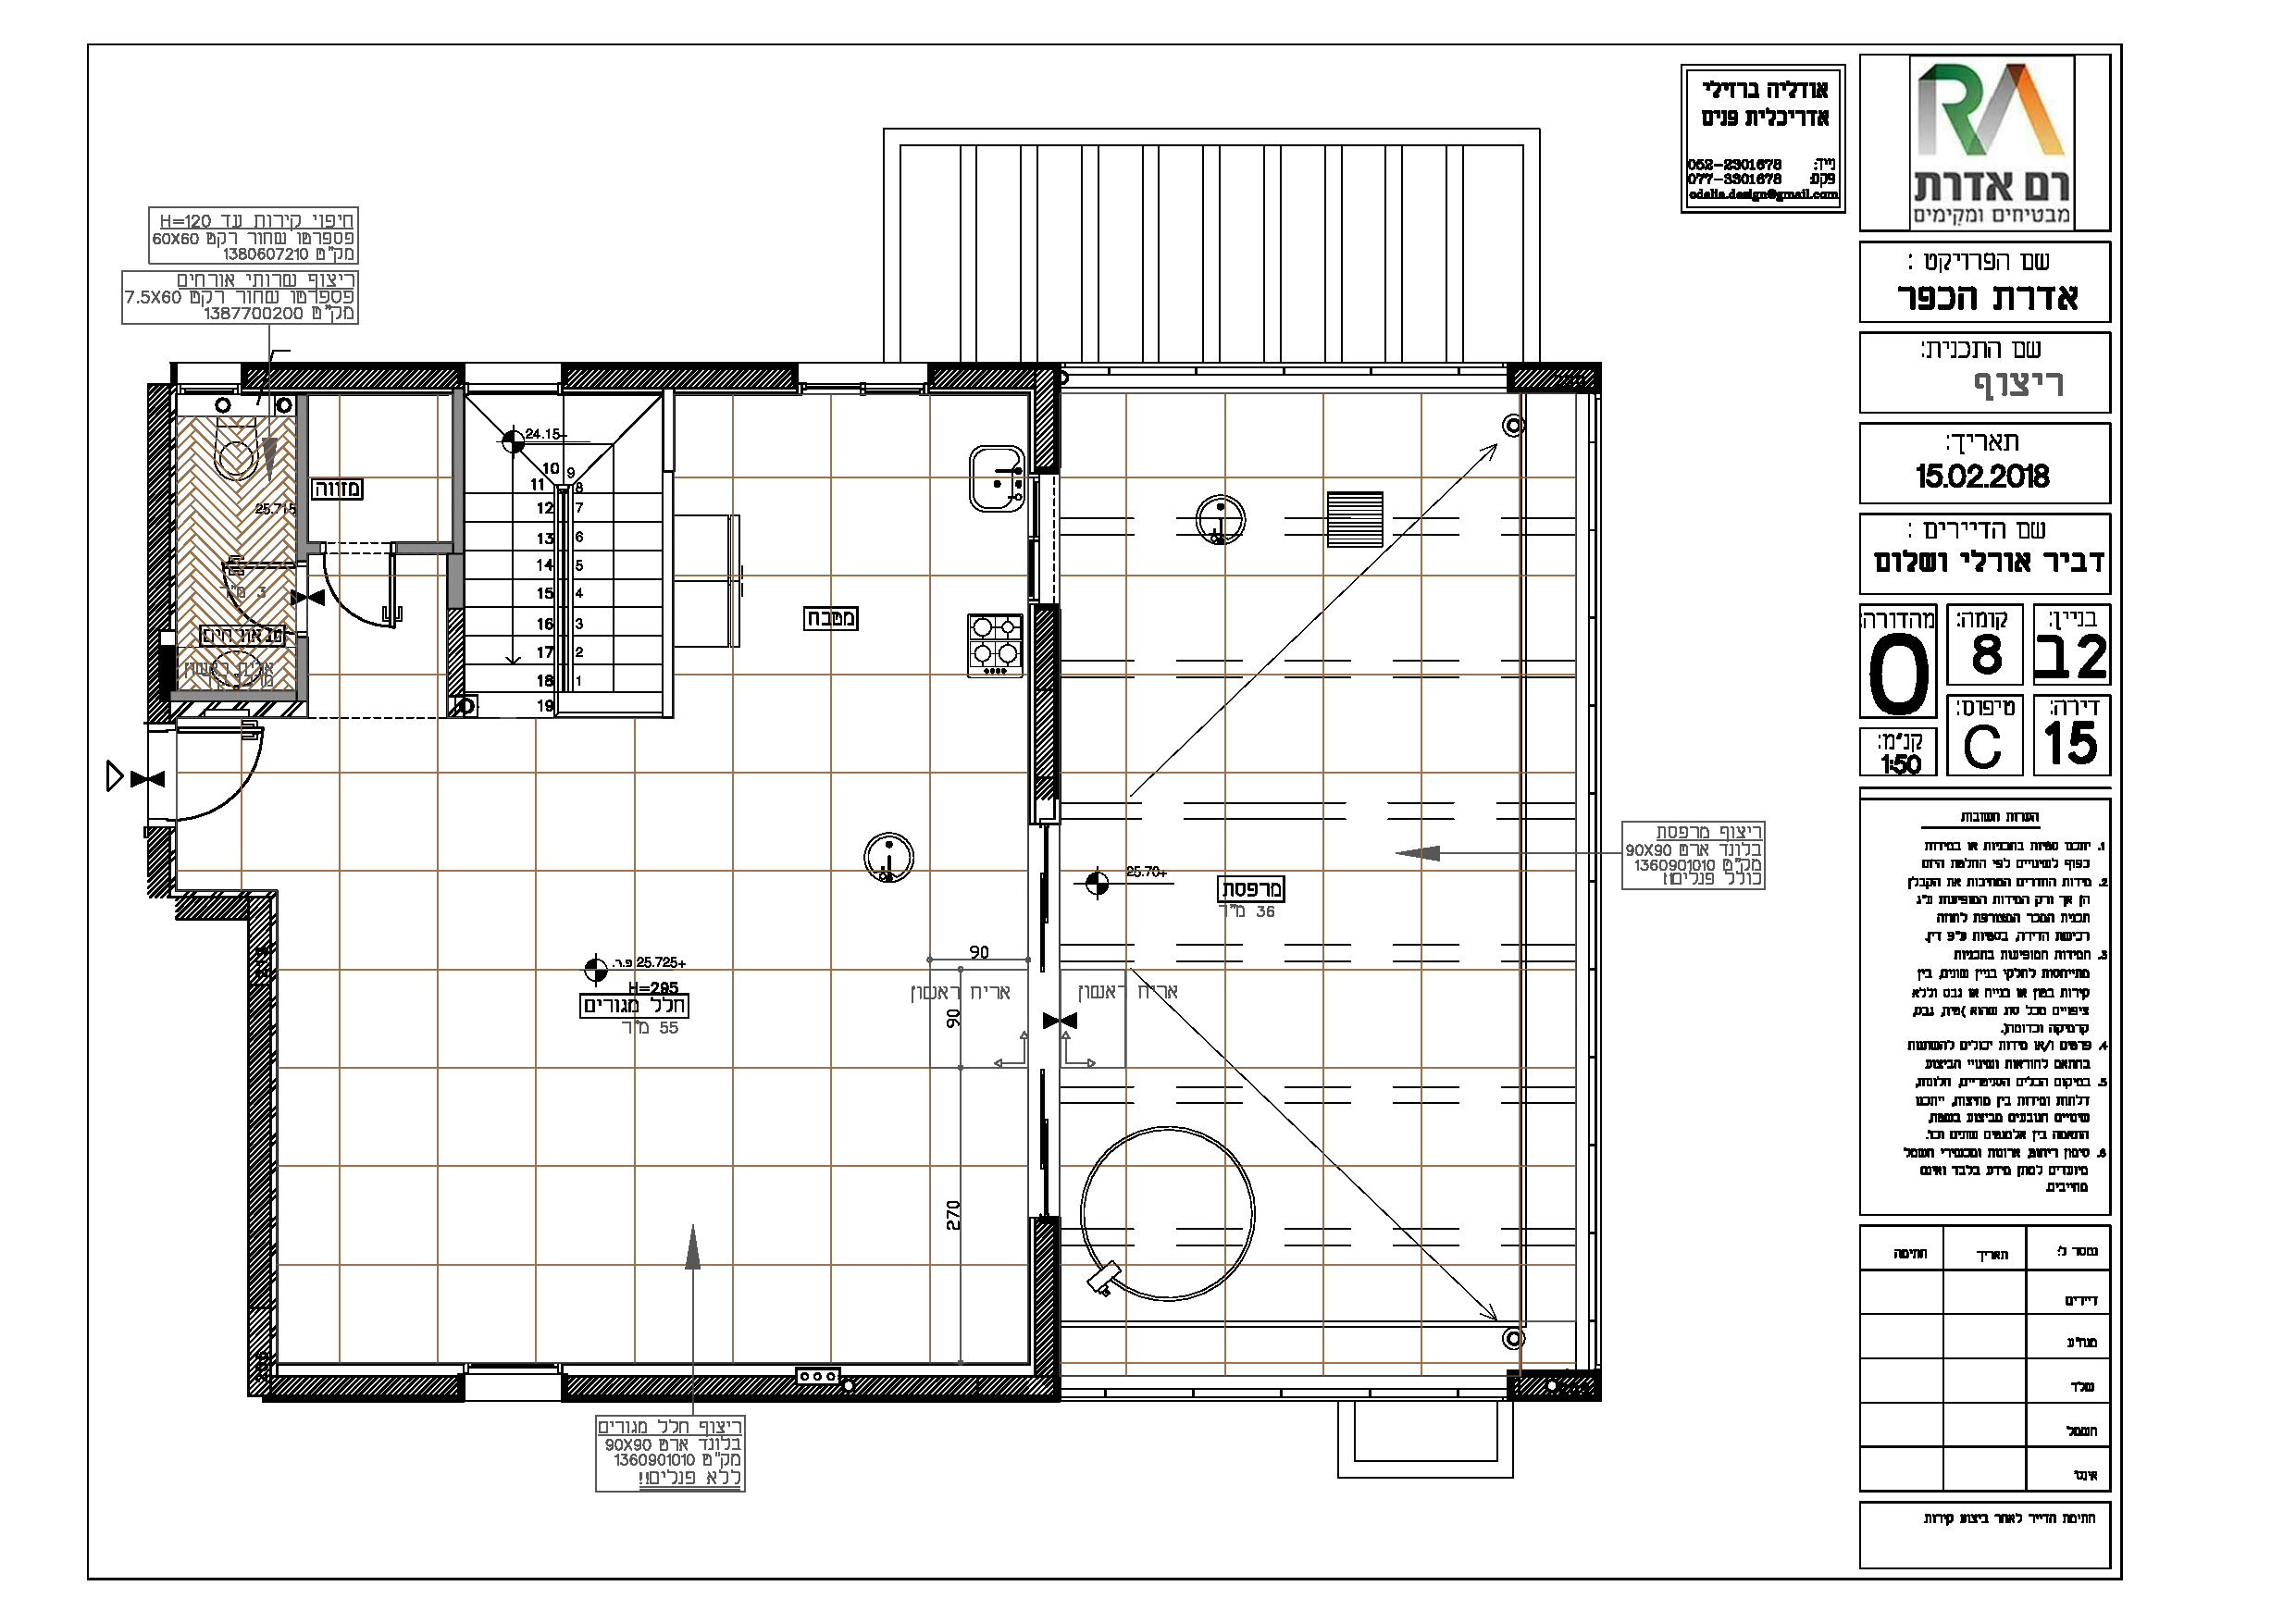door: (184, 724, 272, 827), (320, 564, 408, 636)
wall: (249, 984, 272, 1298), (569, 367, 789, 386), (276, 369, 448, 388), (283, 1381, 460, 1395), (1038, 1223, 1052, 1374), (943, 369, 1056, 386), (573, 1381, 689, 1395), (453, 402, 462, 550)
window: (462, 1361, 562, 1425), (796, 353, 928, 400), (1021, 478, 1066, 602), (464, 353, 560, 408), (177, 358, 242, 404)
